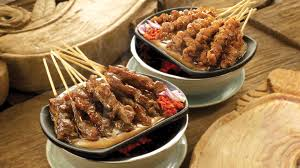sate: (37, 61, 195, 146), (132, 8, 265, 75)
